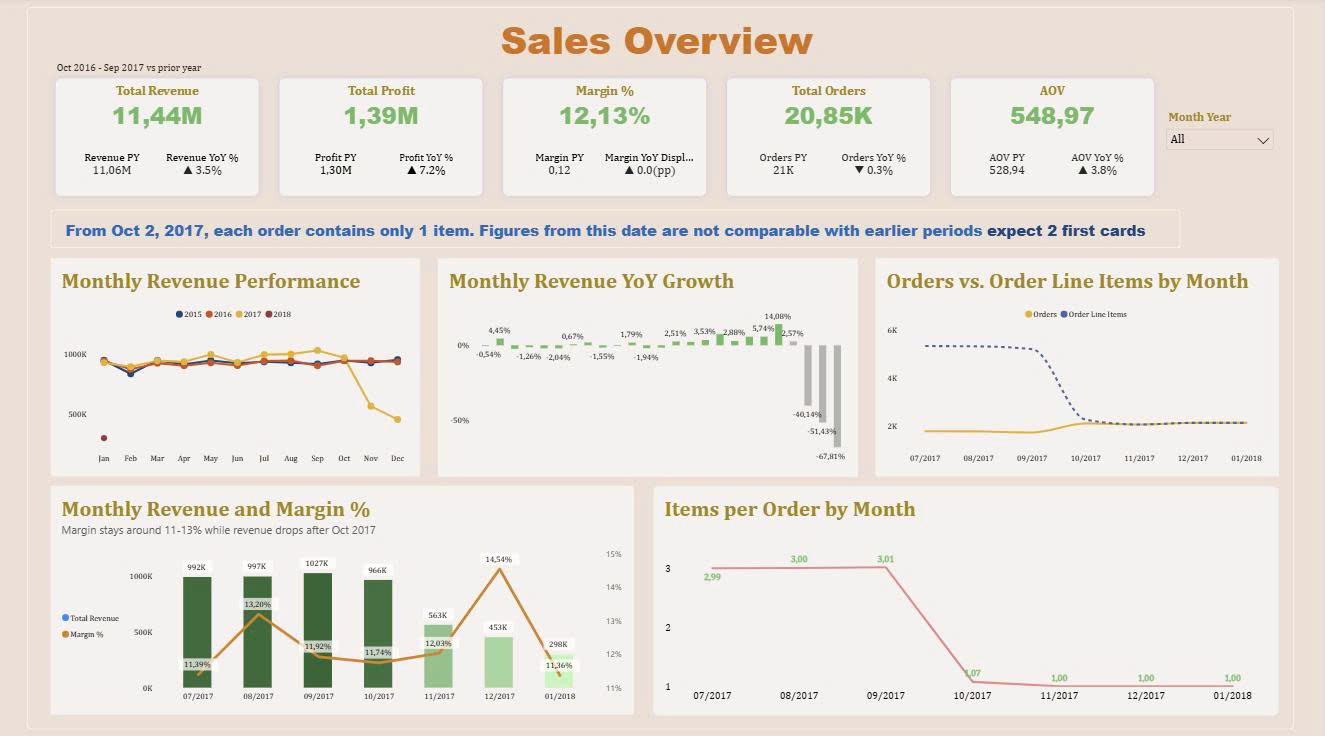

This screenshot's page, from the dashboard's own definition file:
{"tool":"powerbi","page":{"name":"Sales","canvas":[1920,1080],"ordinal":0},"visuals":[{"type":"shape","box":[41.6,14.5,1835,1046],"z":0},{"type":"cardVisual","fields":{"Data":["Measure.Total Sales","Measure.Total Profit","Measure.Margin %","Measure.Total Orders","Measure.AOV"]},"box":[72.4,106.2,1614.2,192.4],"z":1000,"group":"g4"},{"type":"slicer","fields":{"Values":["Date.Month Year"]},"box":[1686.6,162.9,164.7,95.9],"z":1000},{"type":"group","id":"g1","title":"Group 2","box":[76,378.2,1778.9,316.7],"z":2000},{"type":"lineChart","title":"Monthly Revenue Performance","fields":{"Category":["Date.Month Name"],"Series":["Date.Year"],"Y":["Measure.Total Revenue"]},"box":[76,378.2,534,316],"z":2000,"group":"g1"},{"type":"clusteredColumnChart","title":"Monthly Revenue YoY Growth","fields":{"Category":["Date.Month Year"],"Y":["Measure.Revenue YoY %"]},"box":[637,378.2,608,316.7],"z":3000,"group":"g1"},{"type":"group","id":"g2","title":"Group 3","box":[76,707.6,1778.9,333],"z":3000},{"type":"group","id":"g3","title":"Group 1","box":[76,307.6,1635.9,56.1],"z":4000},{"type":"lineChart","title":"Orders vs. Order Line Items by Month","fields":{"Category":["Date.Month Year"],"Y":["Measure.Total Orders","Measure.Rows Item"]},"box":[1270.4,378.2,584,316],"z":4000,"group":"g1"},{"type":"group","id":"g4","title":"Group 4","box":[72.4,92.3,1614.2,206.3],"z":5000},{"type":"lineChart","title":"Items per Order by Month","fields":{"Category":["Date.Month Year"],"Y":["Measure.Items per Order"]},"box":[948.3,707.6,906.6,333],"z":5000,"group":"g2"},{"type":"textbox","box":[727.5,23.5,479.6,86.9],"z":6000},{"type":"lineClusteredColumnComboChart","title":"Monthly Revenue and Margin %","fields":{"Category":["Date.Month Year"],"Y":["Measure.Total Revenue"],"Y2":["Measure.Margin %"]},"box":[76,707.6,845.1,331.3],"z":6000,"group":"g2"},{"type":"shape","box":[76,307.6,1635.9,56.1],"z":7500,"group":"g3"},{"type":"textbox","box":[88.7,322.1,1581.6,41.6],"z":8000,"group":"g3"},{"type":"textbox","box":[85.1,92.3,235.3,33.7],"z":10005,"group":"g4"}]}

Visuals, with their boxes in screenshot pixels (x1, y1, x2, y2), scaled from the page's 1920x1080 canvas onto the 1325x736 screenshot:
shape: (x1=29, y1=10, x2=1295, y2=723)
cardVisual - Measure.Total Sales x Measure.Total Profit: (x1=50, y1=72, x2=1164, y2=203)
slicer - Date.Month Year: (x1=1164, y1=111, x2=1278, y2=176)
"Group 2" group: (x1=52, y1=258, x2=1280, y2=474)
"Monthly Revenue Performance" lineChart: (x1=52, y1=258, x2=421, y2=473)
"Monthly Revenue YoY Growth" clusteredColumnChart: (x1=440, y1=258, x2=859, y2=474)
"Group 3" group: (x1=52, y1=482, x2=1280, y2=709)
"Group 1" group: (x1=52, y1=210, x2=1181, y2=248)
"Orders vs. Order Line Items by Month" lineChart: (x1=877, y1=258, x2=1280, y2=473)
"Group 4" group: (x1=50, y1=63, x2=1164, y2=203)
"Items per Order by Month" lineChart: (x1=654, y1=482, x2=1280, y2=709)
textbox: (x1=502, y1=16, x2=833, y2=75)
"Monthly Revenue and Margin %" lineClusteredColumnComboChart: (x1=52, y1=482, x2=636, y2=708)
shape: (x1=52, y1=210, x2=1181, y2=248)
textbox: (x1=61, y1=220, x2=1153, y2=248)
textbox: (x1=59, y1=63, x2=221, y2=86)
